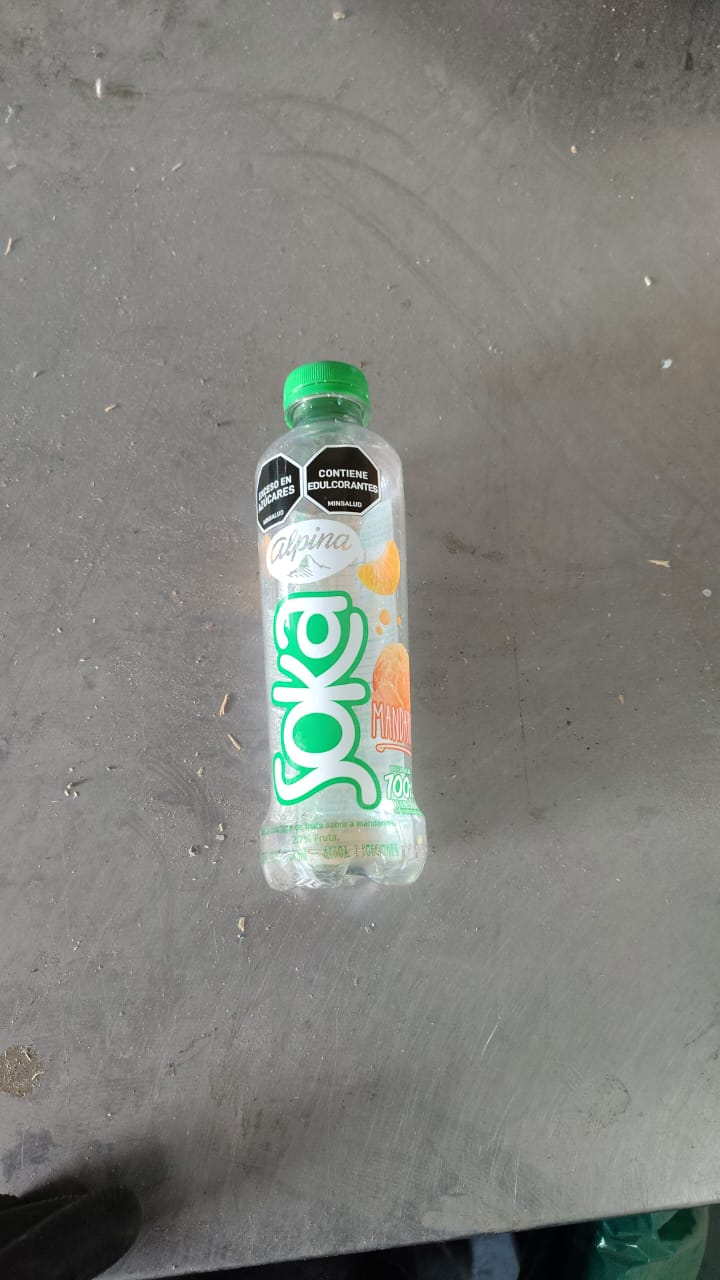Plastico: (252, 353, 428, 891)
